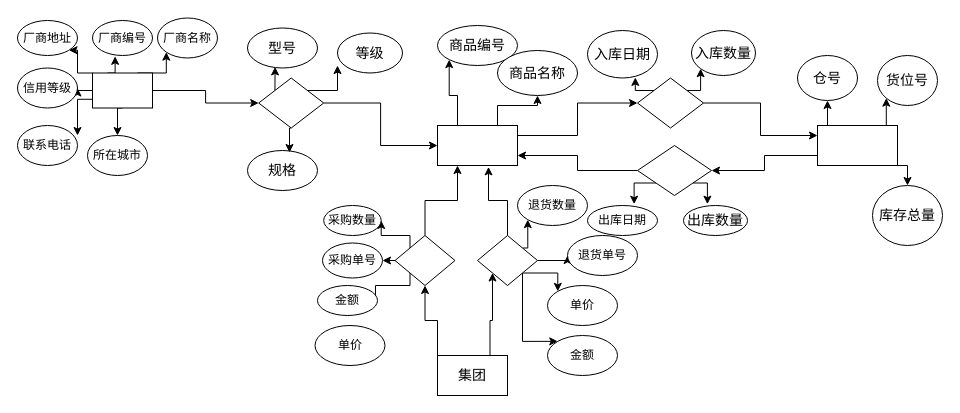
Some shapes in this 960 by 413 pixel diagram are drawn without their labels. Each missing label, with the centre of its shape:
仓库: the point at 857,145
入库: the point at 670,102
出库: the point at 674,170
厂商: the point at 122,90
商品: the point at 477,145
生产: the point at 291,102
退货: the point at 507,260
采购: the point at 424,260
